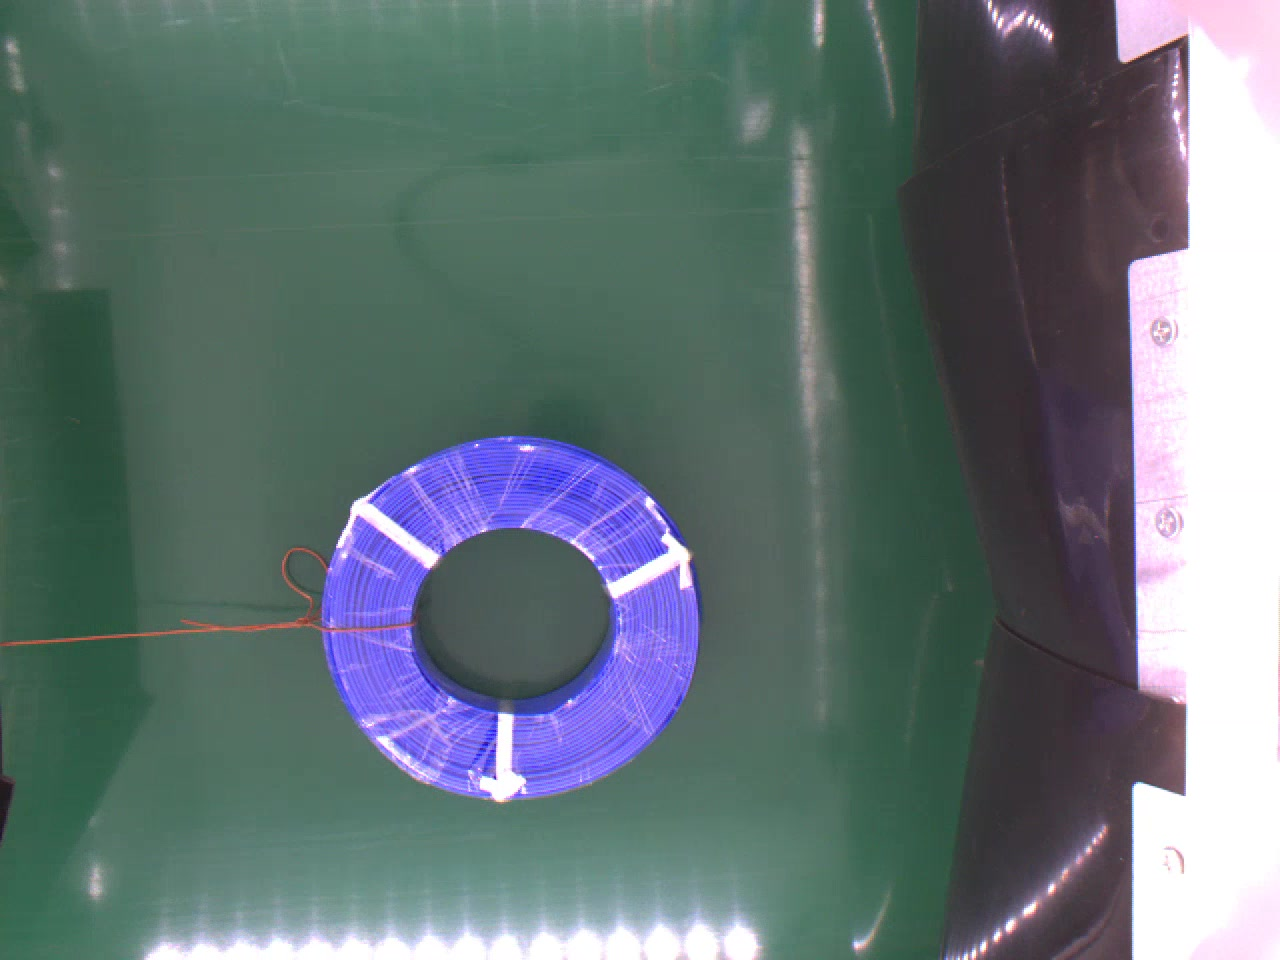blue: (312, 435, 706, 807)
